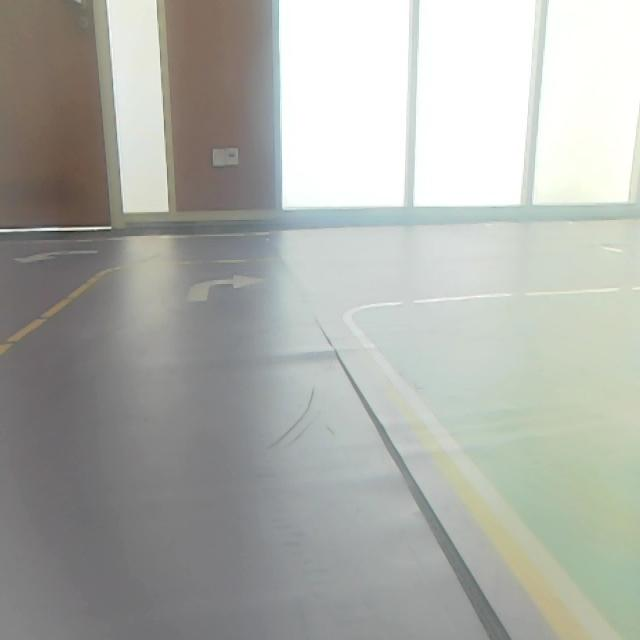left_lane: (0, 269, 113, 368)
right_lane: (343, 317, 617, 635)
